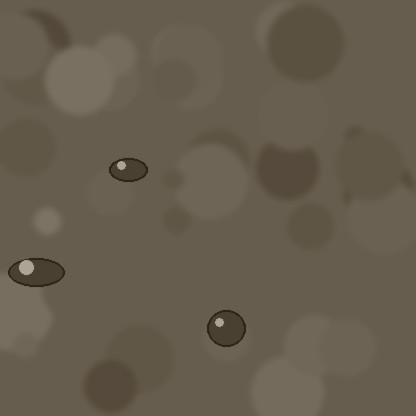gota: (8, 259, 64, 289), (207, 311, 245, 349), (109, 159, 147, 183)
